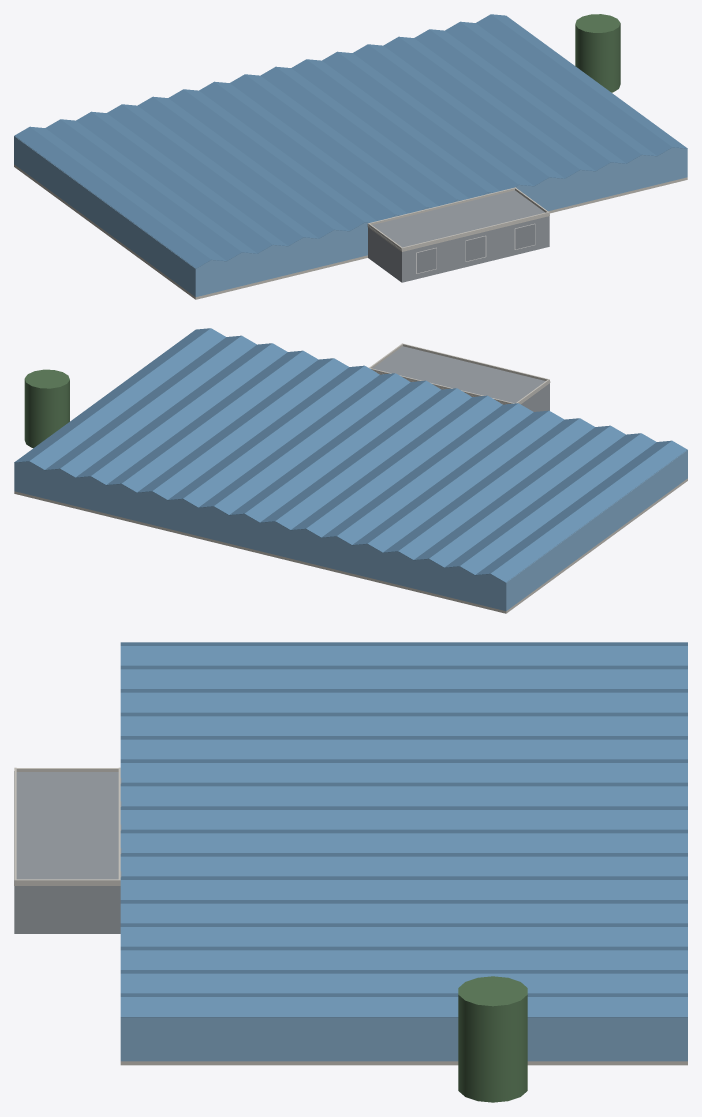
The model's file is serre_verre.glb.
3 views of the same model, one above another, from view 1: azimuth 30°, elevation 25°; view 2: azimuth 150°, elevation 25°; view 3: azimuth 270°, elevation 25° (orthographic). The views are drawn at different scales.
Visible parts, largest first — view 1: serre_verre; view 2: serre_verre; view 3: serre_verre.
Boxes of the visible parts, box(x1,y1,x2,y2) form: serre_verre: box(14, 14, 687, 299); serre_verre: box(14, 328, 687, 613); serre_verre: box(14, 642, 687, 1102).
Bounding box in the file's own units: 110 × 12 × 76.05.
Materials: 1 (1 with a texture image).
